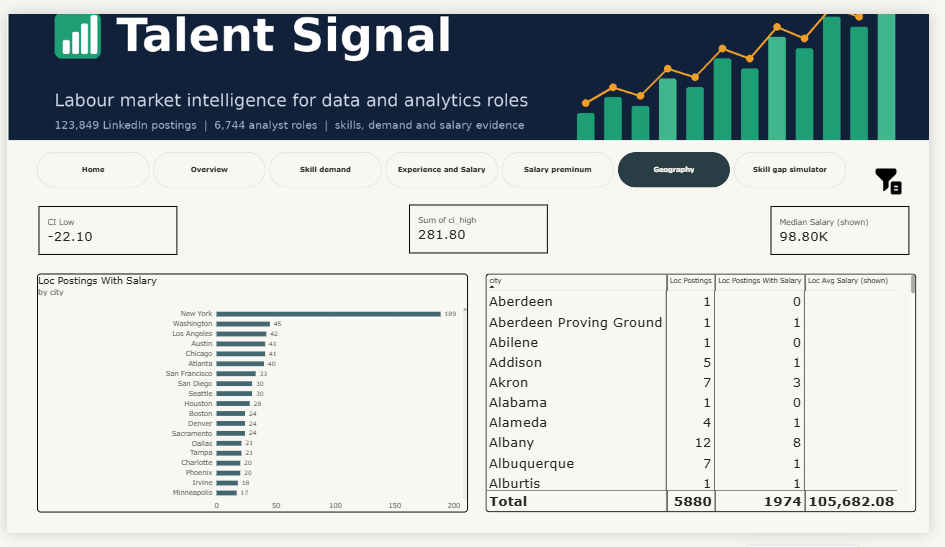

The dashboard page shown, as its layout file describes it:
{"tool":"powerbi","page":{"name":"Geography","canvas":[1920,1080],"ordinal":5},"visuals":[{"type":"tableEx","fields":{"Values":["public v_location_demand.city","_Measures.Loc Postings","_Measures.Loc Postings With Salary","_Measures.Loc Avg Salary (shown)"]},"box":[997.9,540.4,897,497],"z":0},{"type":"pageNavigator","box":[61.7,287.2,1691.5,74.5],"z":1000},{"type":"cardVisual","fields":{"Data":["_Measures.Median Salary (shown)"]},"box":[1591.4,399.2,289,102],"z":2000},{"type":"image","box":[1807.2,323,61,54],"z":4000},{"type":"barChart","fields":{"Category":["public v_location_demand.city"],"Y":["_Measures.Loc Postings With Salary"]},"box":[61.7,540.4,897.9,497.9],"z":7000},{"type":"image","box":[2.9,0,1918.5,263],"z":9000},{"type":"cardVisual","fields":{"Data":["_Measures.CI Low"]},"box":[66,398.6,289.4,102.1],"z":12000},{"type":"cardVisual","fields":{"Data":["Sum(skill_premium_adjusted.ci_high)"]},"box":[836.2,397.9,289,102],"z":13000}]}

Visuals, with their boxes in screenshot pixels (x1, y1, x2, y2), scaled from the page's 1920x1080 canvas onto the 945x547 screenshot:
tableEx - public v_location_demand.city x _Measures.Loc Postings: region(491, 274, 933, 525)
pageNavigator: region(30, 145, 863, 183)
cardVisual - _Measures.Median Salary (shown): region(783, 202, 926, 254)
image: region(889, 164, 920, 191)
barChart - public v_location_demand.city x _Measures.Loc Postings With Salary: region(30, 274, 472, 526)
image: region(1, 0, 944, 133)
cardVisual - _Measures.CI Low: region(32, 202, 175, 254)
cardVisual - Sum(skill_premium_adjusted.ci_high): region(412, 202, 554, 253)
